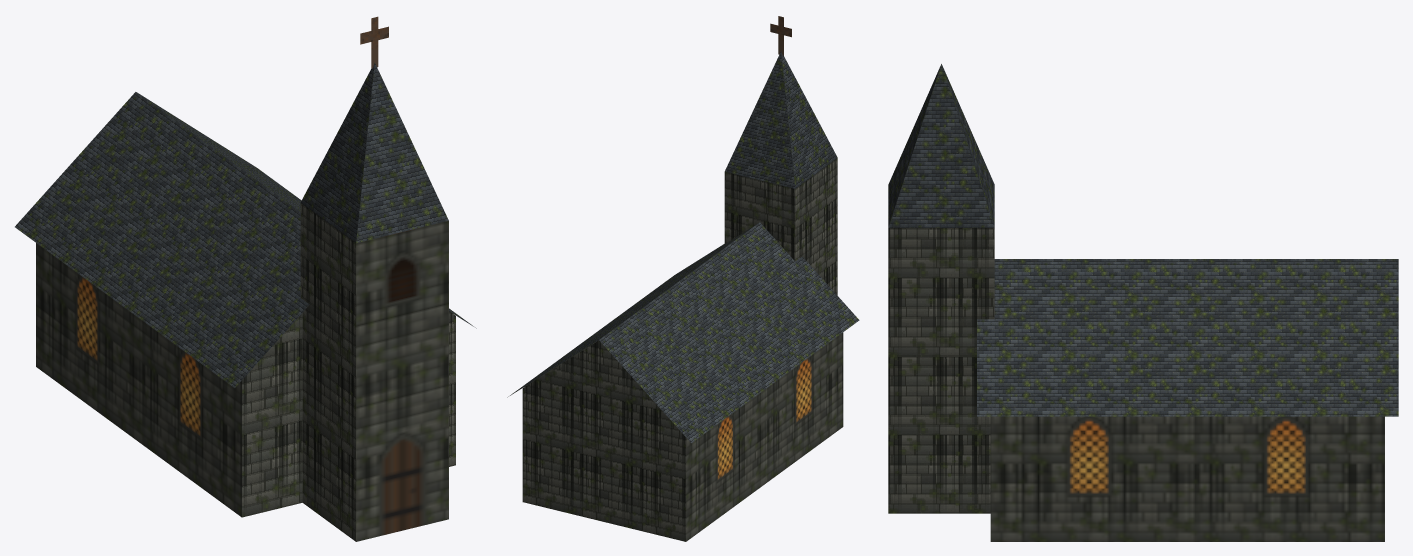
The model's file is chapel.obj.
The picture shows the model from 3 angles, left to right: view 1: azimuth 30°, elevation 25°; view 2: azimuth 150°, elevation 25°; view 3: azimuth 270°, elevation 25°; orthographic projection. The views are drawn at different scales.
Parts seen in each view (by area): view 1: roof, tower_front, nave_sides, tower, spire, nave_gables, cross; view 2: roof, nave_gables, nave_sides, tower, spire; view 3: roof, nave_sides, tower, spire.
Boxes of the visible parts, box(x1,y1,x2,y2) form: roof: box(15, 92, 476, 387); tower_front: box(356, 220, 448, 541); nave_sides: box(36, 243, 453, 517); tower: box(300, 203, 355, 541); spire: box(300, 62, 448, 243); nave_gables: box(242, 312, 455, 517); cross: box(360, 16, 388, 68); roof: box(507, 222, 859, 442); nave_gables: box(522, 340, 685, 541); nave_sides: box(525, 332, 843, 541); tower: box(724, 158, 837, 295); spire: box(725, 51, 837, 188); roof: box(977, 259, 1398, 416); nave_sides: box(990, 416, 1384, 541); tower: box(888, 228, 994, 513); spire: box(888, 64, 994, 227).
Bounding box in the file's own units: 6.8 × 13.2 × 12.95.
Materials: 5 (5 with a texture image).
